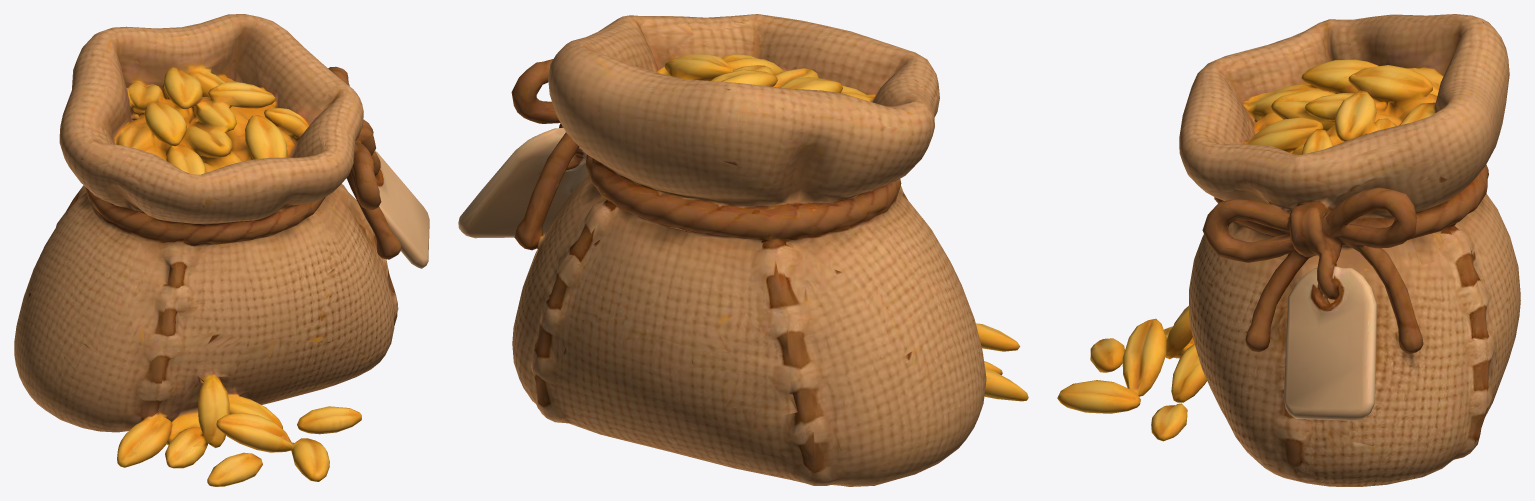
3 views of the same model, side by side, from view 1: azimuth 30°, elevation 25°; view 2: azimuth 150°, elevation 25°; view 3: azimuth 270°, elevation 25° (orthographic). The views are drawn at different scales.
Visible parts, largest first — view 1: oat-sack; view 2: oat-sack; view 3: oat-sack.
Boxes of the visible parts, x1,y1,x2,y2 form: oat-sack: (14,14,429,486); oat-sack: (458,14,1028,486); oat-sack: (1057,14,1520,486).
Bounding box in the file's own units: 0.8387 × 0.6501 × 0.7396.
1 material, 1 textured.
